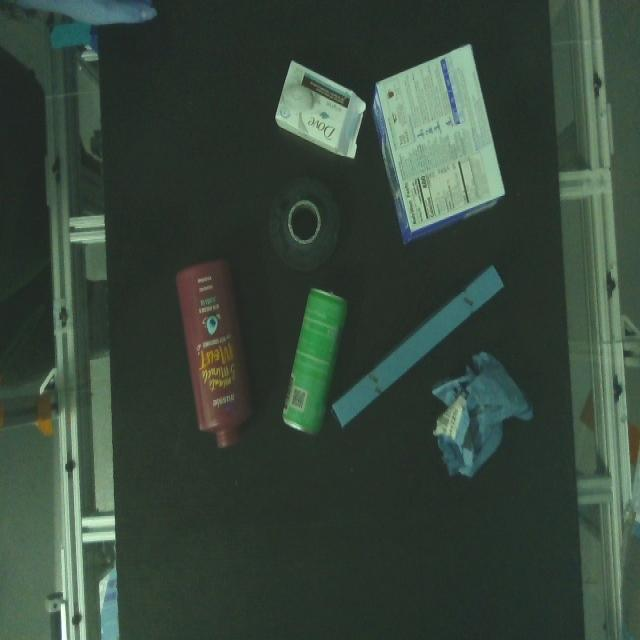non-paper: (170, 252, 260, 460), (272, 285, 350, 440), (266, 171, 347, 275)
paper: (370, 36, 511, 252), (328, 262, 508, 429), (427, 343, 539, 492), (269, 53, 372, 163)
